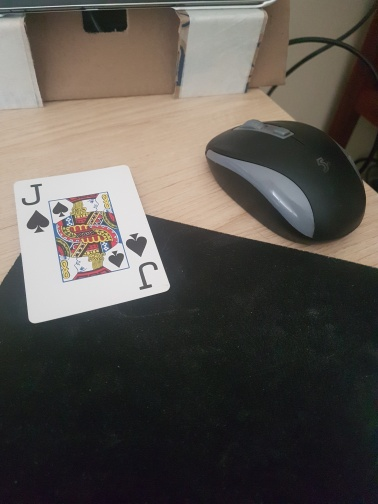jack: (11, 165, 169, 325)
